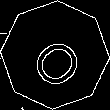O_NE: (22, 22, 88, 88)
